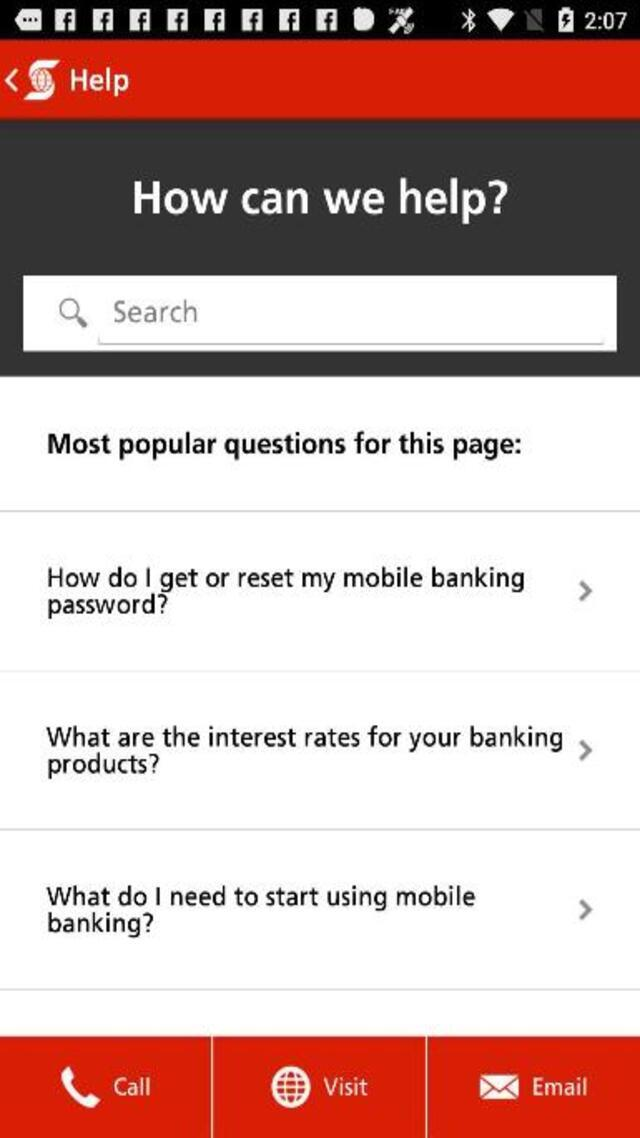Icon: (59, 298, 87, 328), (4, 69, 19, 92), (578, 579, 592, 602), (578, 898, 592, 919), (578, 740, 592, 761)
Image: (23, 60, 60, 100)
Text: (135, 178, 507, 224), (46, 429, 524, 464), (47, 725, 567, 753), (44, 565, 529, 594), (44, 884, 475, 913), (42, 595, 171, 624), (44, 912, 156, 941), (44, 754, 162, 780), (113, 300, 196, 323), (70, 67, 128, 97)
TextButton: (212, 1036, 426, 1137), (425, 1036, 639, 1137), (1, 1036, 212, 1137)
